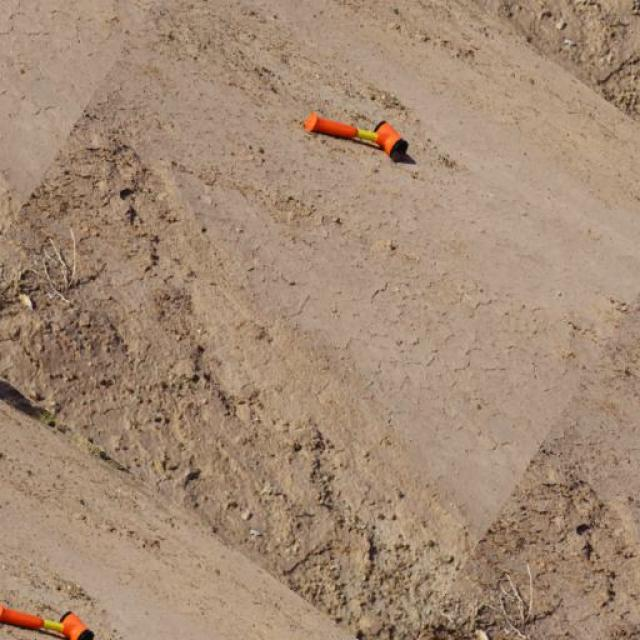mallet: (303, 110, 412, 162), (2, 592, 98, 638)
